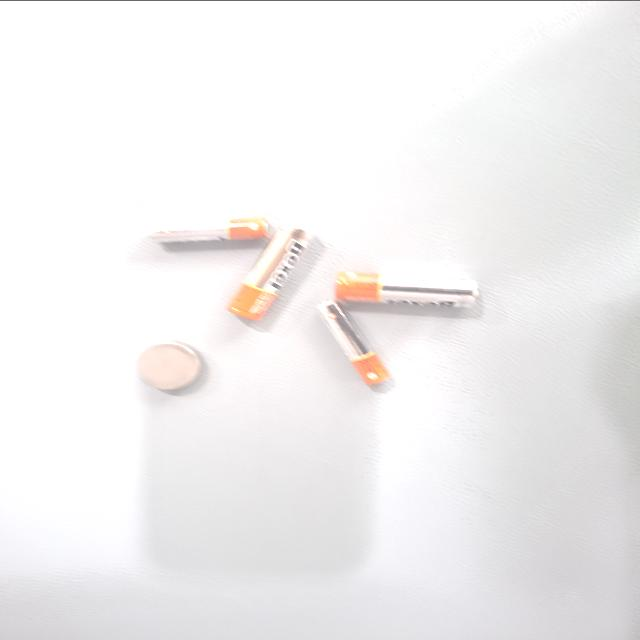AA: (294, 403, 427, 471), (362, 281, 408, 388)
AAA: (399, 348, 513, 402), (288, 441, 322, 531)
COIN: (452, 485, 522, 540)
